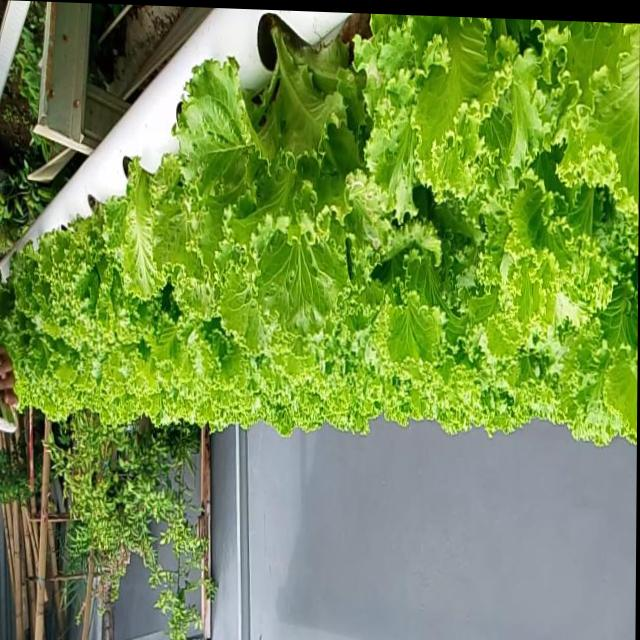Mature: (0, 14, 640, 447), (158, 16, 379, 347), (36, 194, 142, 357)
